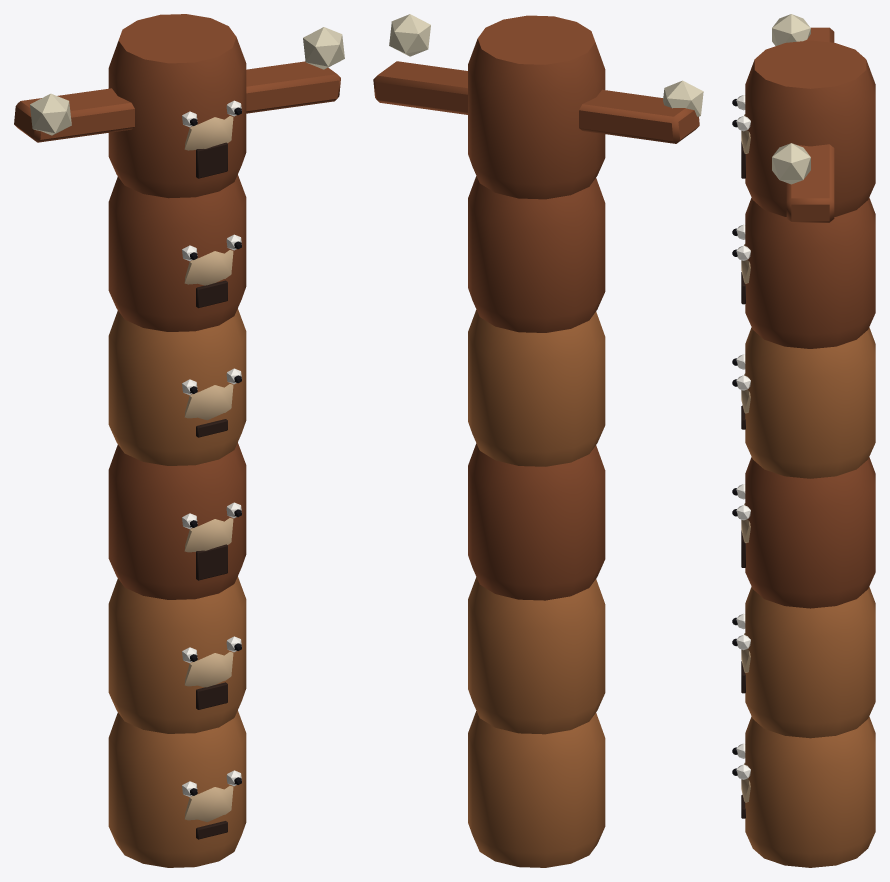
The model's file is totem_pole.glb.
3 renders of one model, left to right at view 1: azimuth 30°, elevation 25°; view 2: azimuth 150°, elevation 25°; view 3: azimuth 270°, elevation 25°, orthographic. The views are drawn at different scales.
Parts seen in each view (by area): view 1: totem_pole; view 2: totem_pole; view 3: totem_pole.
Boxes of the visible parts, x1=… form: totem_pole: x1=14, y1=14, x2=344, y2=867; totem_pole: x1=373, y1=14, x2=703, y2=867; totem_pole: x1=732, y1=14, x2=875, y2=867.
Size of the model in its own units: 3.63 by 9 by 1.5.
